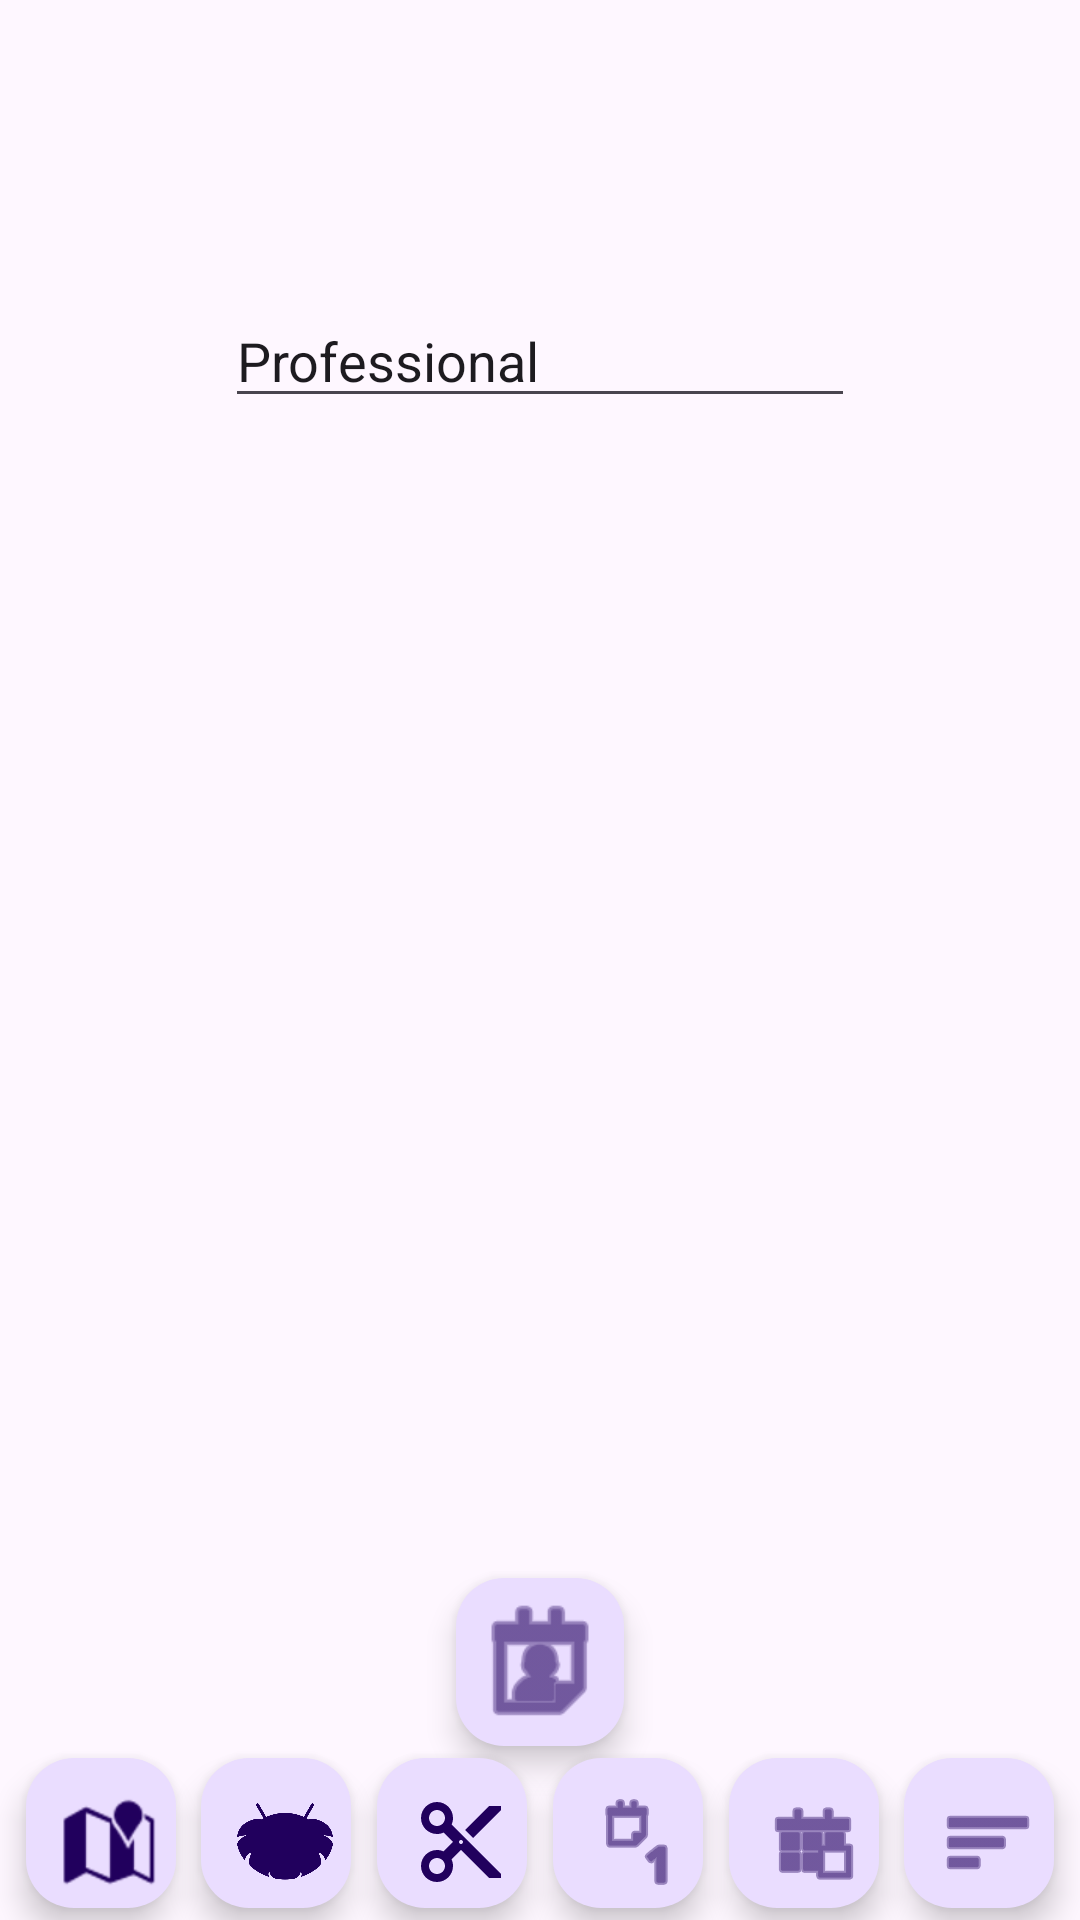

Icons on this 1080px x 1920px Android screen, each with its box as bbox=[x1, y1, x2, y2]:
Location: bbox=[26, 1758, 176, 1908]
Order Scheduled: bbox=[729, 1758, 879, 1908]
Professional: bbox=[456, 1578, 624, 1746]
Service: bbox=[377, 1758, 527, 1908]
Time: bbox=[553, 1758, 703, 1908]
